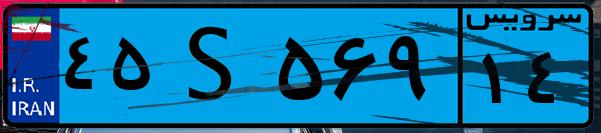1: (475, 38, 525, 113)
4: (57, 26, 110, 100), (525, 38, 570, 115)
5: (270, 28, 330, 110), (110, 28, 158, 98)
6: (330, 28, 385, 110)
9: (385, 28, 445, 110)
S: (158, 12, 270, 120)
